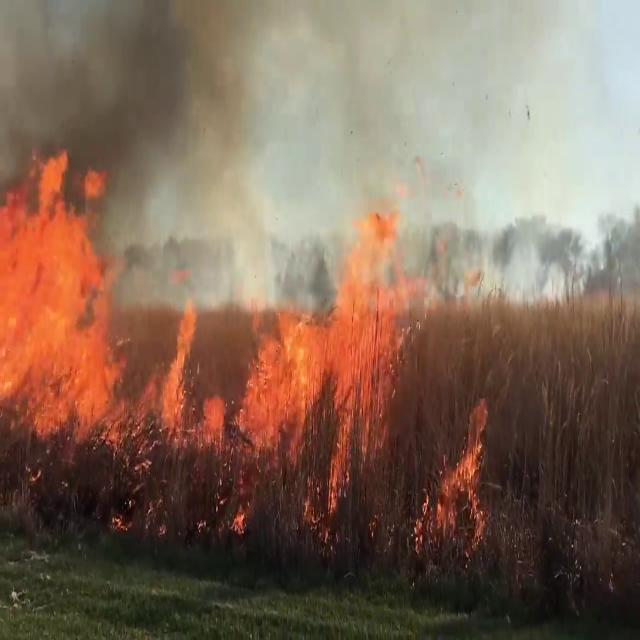Fire: (237, 216, 405, 502), (0, 144, 128, 452), (434, 393, 492, 547), (156, 290, 200, 442)
Smoke: (304, 0, 637, 311), (0, 0, 268, 236)
